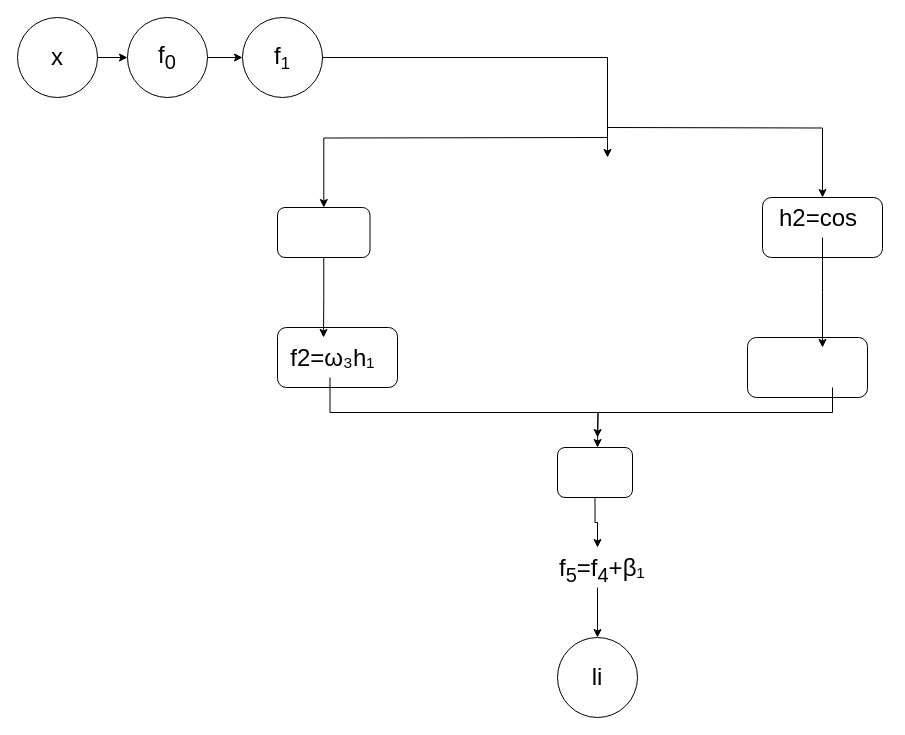
The diagram is 905 pixels wide and 735 high, and some of its shapes have lost their labels. The shapes that lost their labels are listed below. From the top down, each one's centre as x and y in pixels, then its label:
the point at 323,232: h1=sin
the point at 807,367: f3=ω₄h₂
the point at 594,472: f 4
